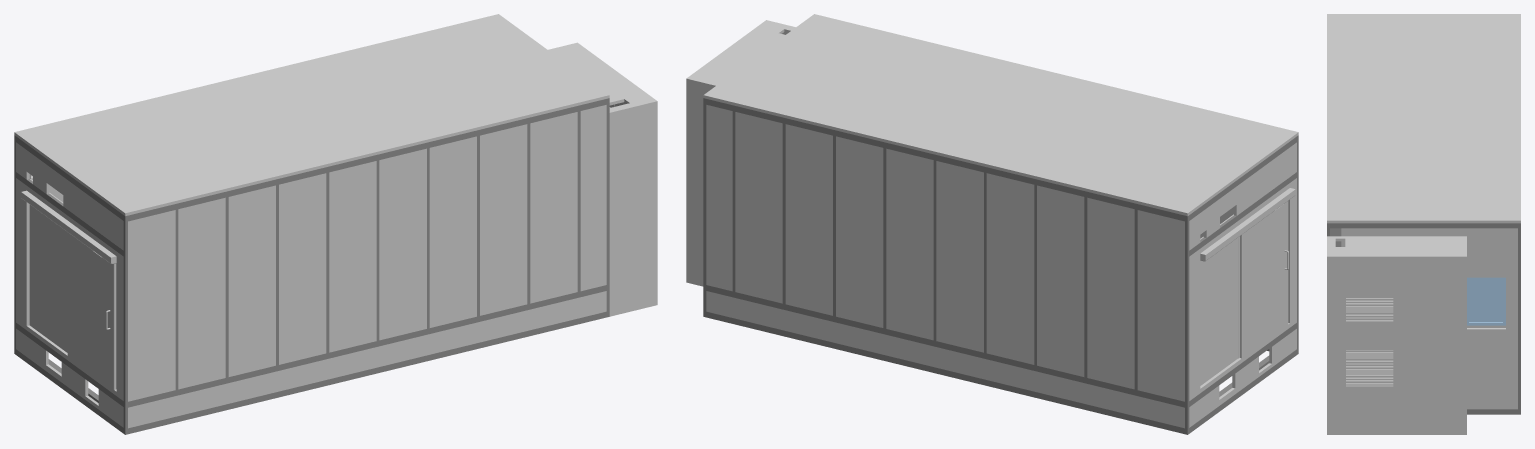
Rendered from 모듈러 병실.glb.
3 views of the same model, side by side, from view 1: azimuth 30°, elevation 25°; view 2: azimuth 150°, elevation 25°; view 3: azimuth 270°, elevation 25° (orthographic). The views are drawn at different scales.
Size of the model in its own units: 9.52 by 3.75 by 3.4.
